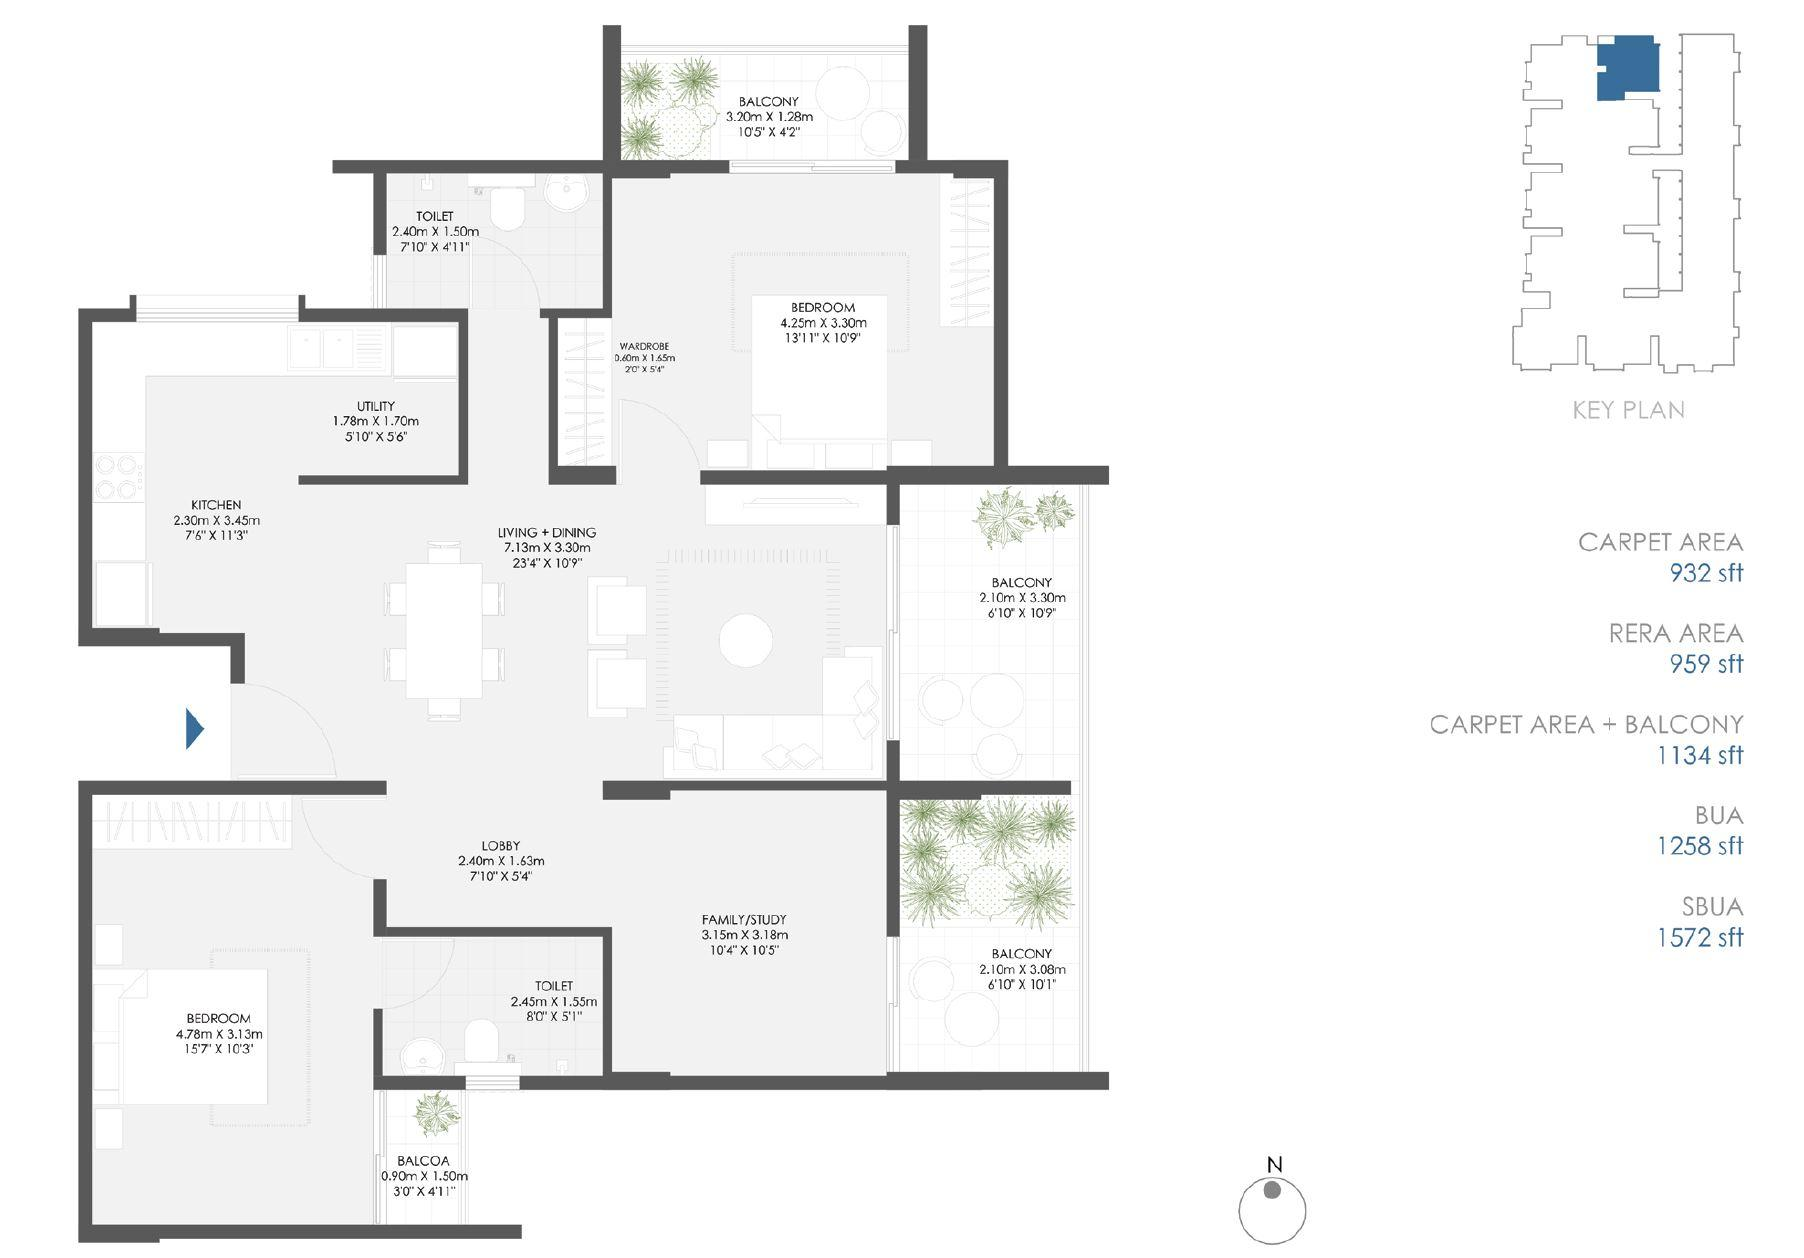Balcony: (901, 480, 1084, 780), (892, 795, 1079, 1070), (620, 49, 906, 160)
Bed: (740, 299, 888, 467), (92, 972, 265, 1107)
Bedroom: (86, 795, 374, 1225), (617, 170, 988, 470)
Dining Room: (295, 484, 585, 778)
Dining table: (371, 537, 515, 722)
Foyer: (387, 789, 609, 924)
Kitchen: (90, 319, 295, 634)
Living Room: (580, 480, 881, 781)
Sofa: (665, 717, 875, 773), (824, 648, 879, 776), (584, 570, 651, 643), (577, 652, 650, 715)
Wardrobe: (85, 799, 291, 854), (939, 177, 998, 337), (557, 315, 613, 465)
balcoa: (376, 1087, 463, 1222)
commode: (458, 1015, 502, 1061), (488, 186, 526, 226)
door: (218, 680, 343, 773), (304, 793, 403, 885), (361, 935, 463, 1017), (465, 229, 550, 321), (617, 388, 698, 481), (879, 518, 912, 747), (355, 1078, 402, 1225), (873, 924, 910, 1070)
kitchen-slab: (80, 322, 395, 375), (84, 314, 148, 562)
sink: (281, 322, 385, 373), (396, 1033, 454, 1078), (547, 175, 587, 210)
study: (613, 793, 886, 1072)
toilet: (378, 935, 603, 1078), (378, 171, 605, 307)
tv: (733, 488, 857, 517)
utility: (295, 323, 458, 478)
